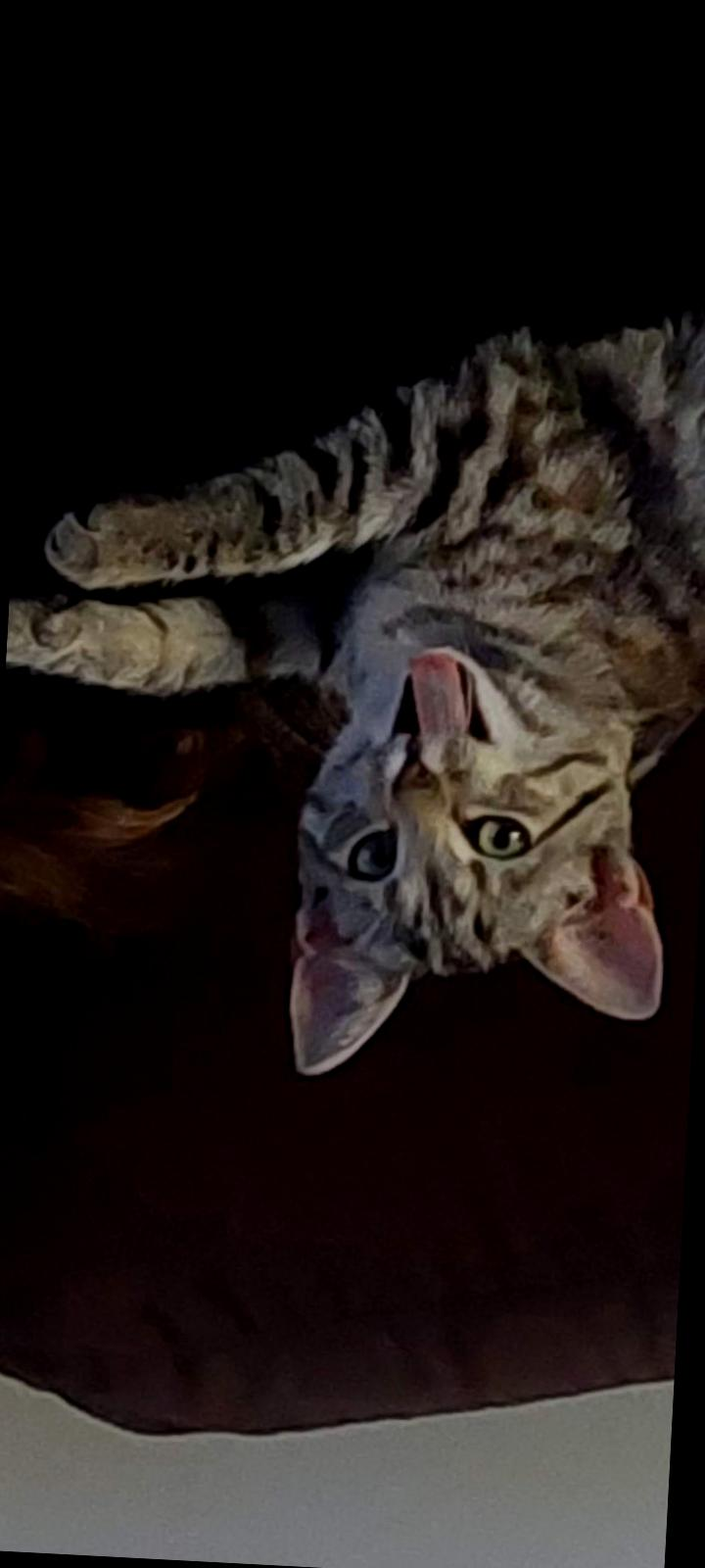macka: (0, 246, 705, 1099)
